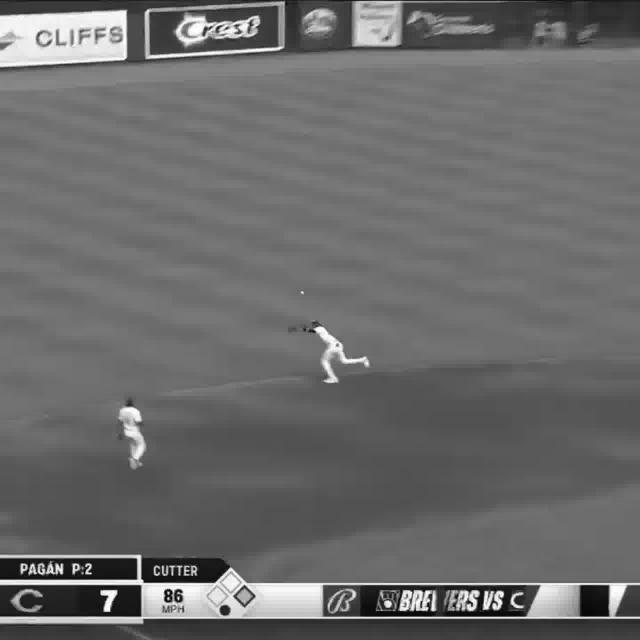baseball: (302, 290, 306, 294)
baseball_glove: (290, 327, 302, 335)
shoe: (124, 459, 143, 471), (323, 378, 340, 387), (360, 358, 369, 367)
